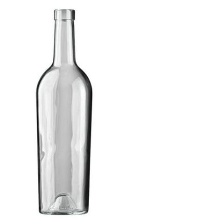bottle: (32, 1, 93, 217)
